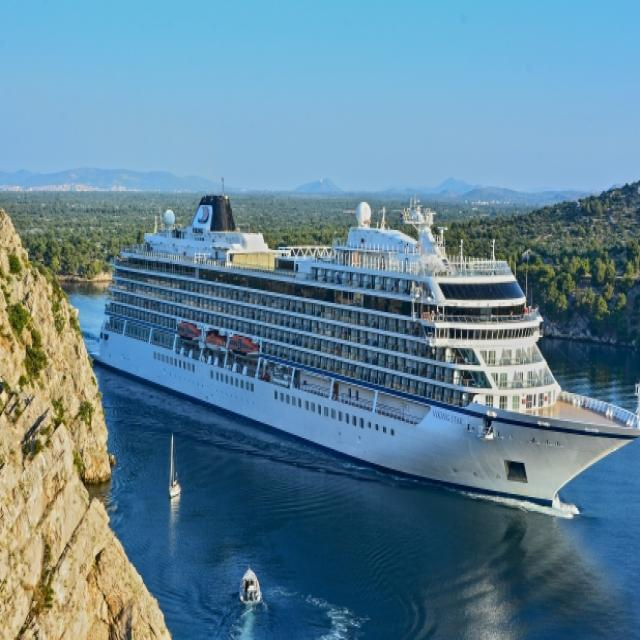cruises: (85, 184, 640, 528)
